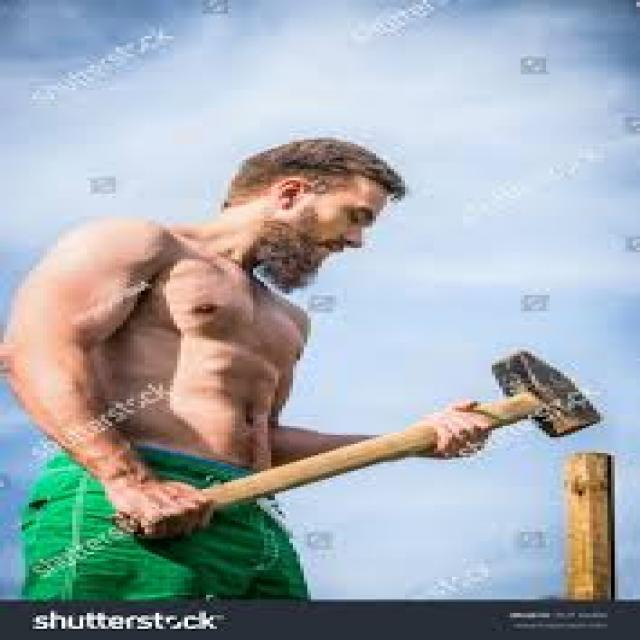hammer: (89, 344, 620, 538)
